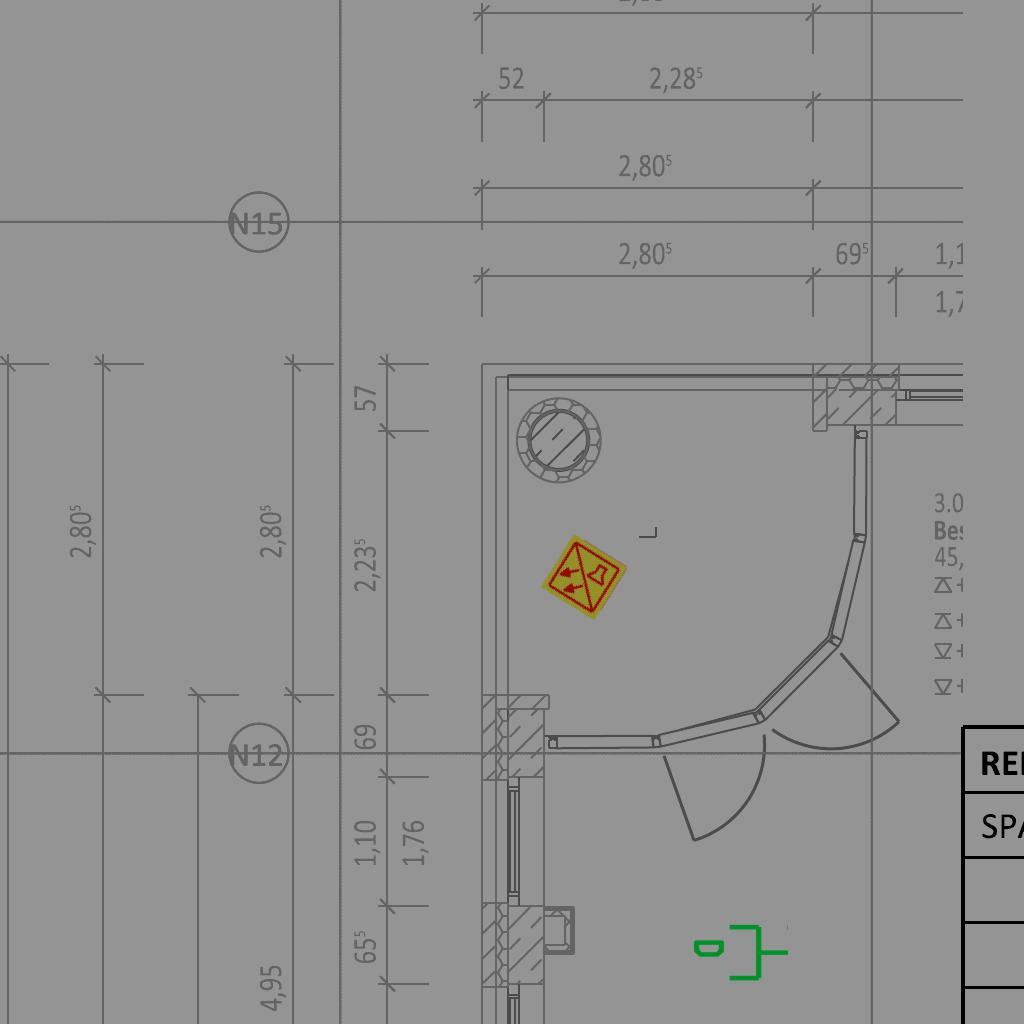Datenanschluss_einfach: (691, 920, 791, 989)
OKW_Multisensormelder_(Kombination_optischer_Rauch-Kahlenmonoxid_Waerme-Melder): (538, 531, 630, 623)
